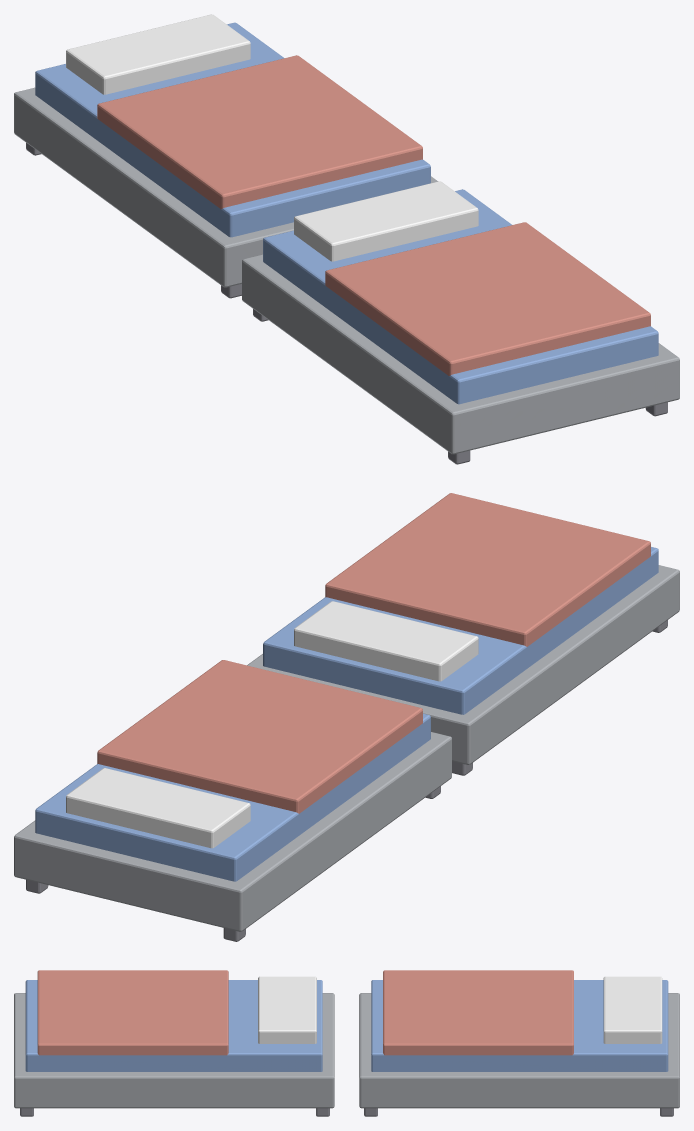
The model's file is койки.glb.
3 renders of one model, top to bottom at view 1: azimuth 30°, elevation 25°; view 2: azimuth 150°, elevation 25°; view 3: azimuth 270°, elevation 25°, orthographic. The views are drawn at different scales.
Parts seen in each view (by area): view 1: койки; view 2: койки; view 3: койки.
Part boxes in pixels (left/top/right/bottom): койки: left=14, top=14, right=679, bottom=464; койки: left=14, top=493, right=679, bottom=941; койки: left=14, top=970, right=679, bottom=1116.
Size of the model in its own units: 1.7 by 0.7005 by 5.66.
